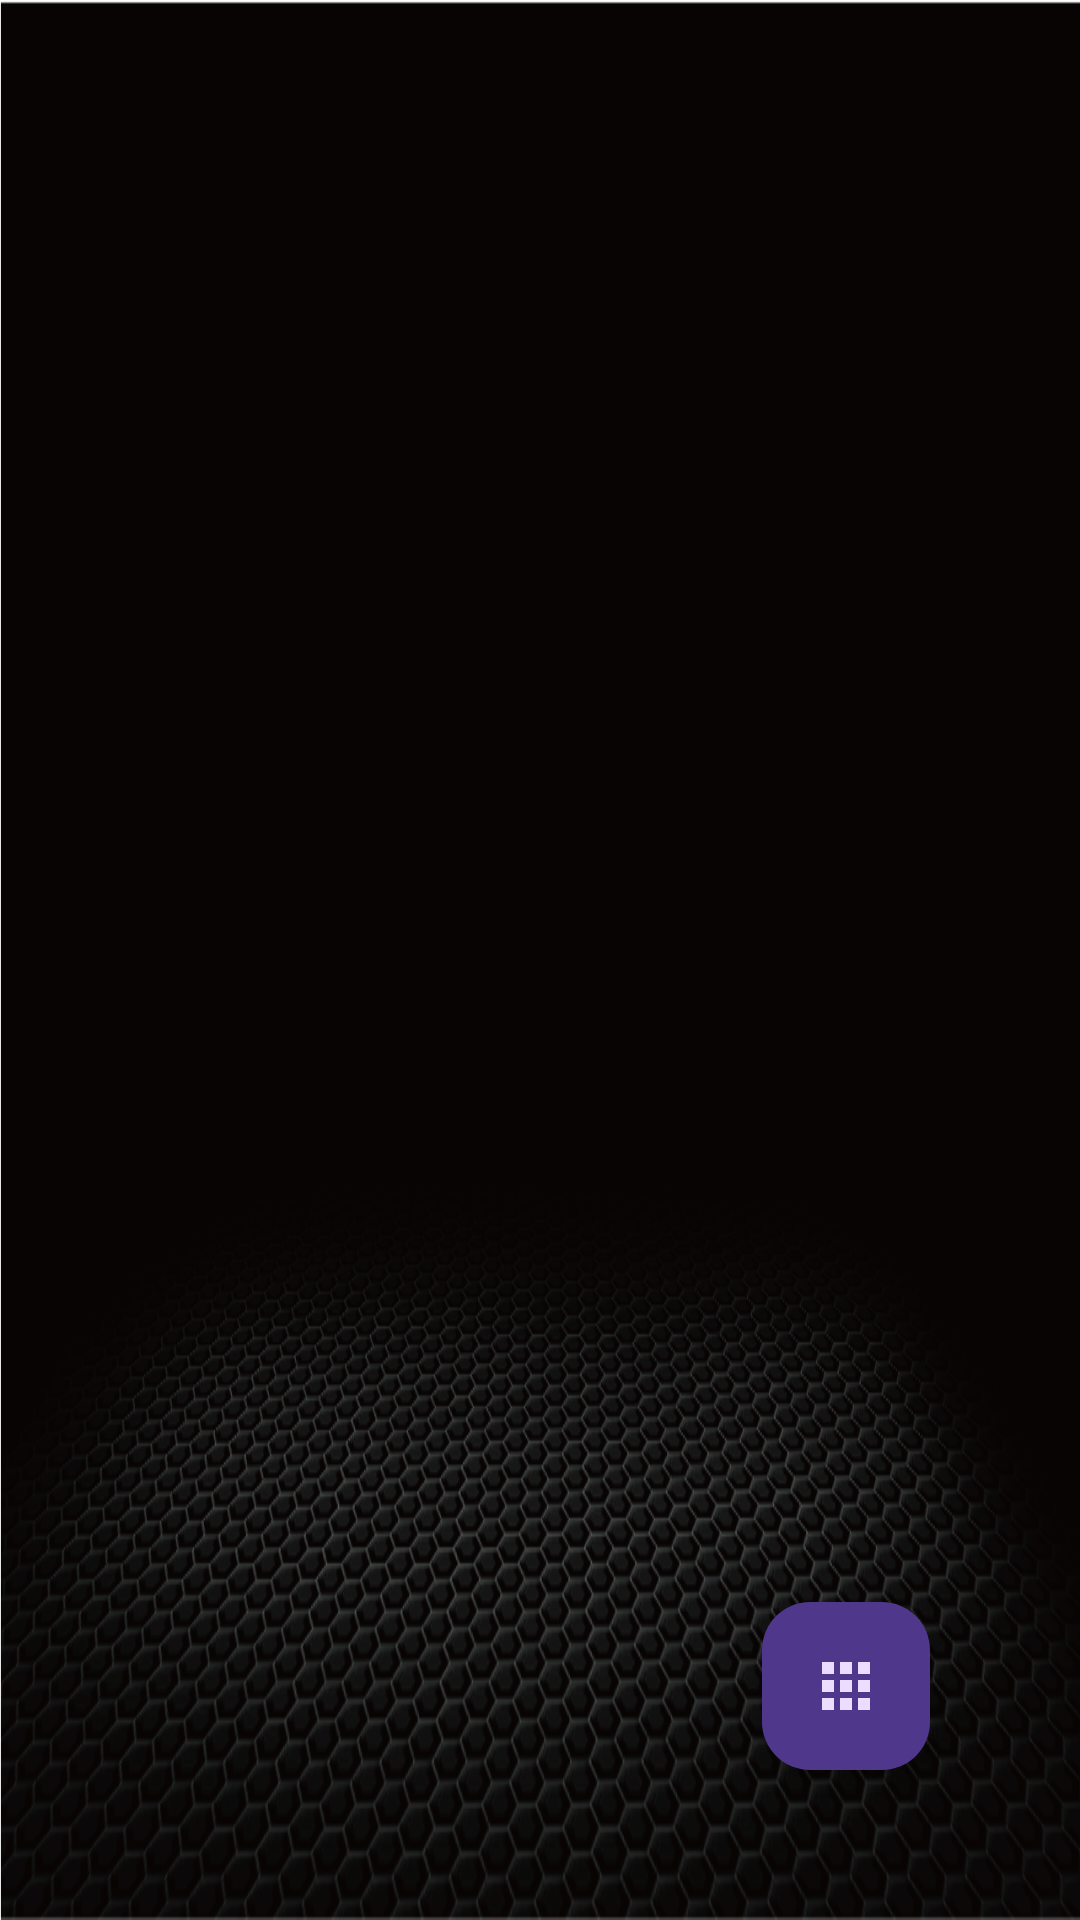

Locate icon controls on the screen. Image size 1080×1920, boxes as bbox=[x1, y1, x2, y2].
apps: bbox=[762, 1602, 930, 1770]
